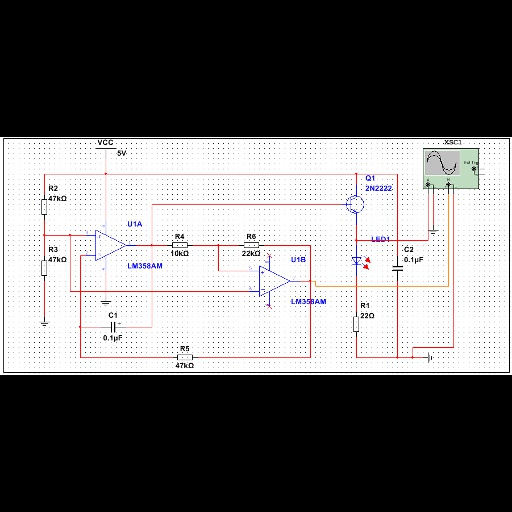amplifier: (255, 264, 292, 299), (92, 228, 128, 262)
capacitor: (389, 263, 406, 274)
firstpolarcapacitor: (106, 320, 124, 334)
firstresistance: (172, 351, 202, 362), (38, 197, 49, 218), (350, 314, 360, 337), (38, 259, 48, 280), (167, 240, 190, 249), (242, 240, 262, 249)
gnd: (97, 299, 112, 307), (427, 351, 435, 366), (38, 321, 51, 329), (428, 230, 440, 237)
npn: (349, 196, 360, 212)
secondled: (347, 251, 374, 273)
